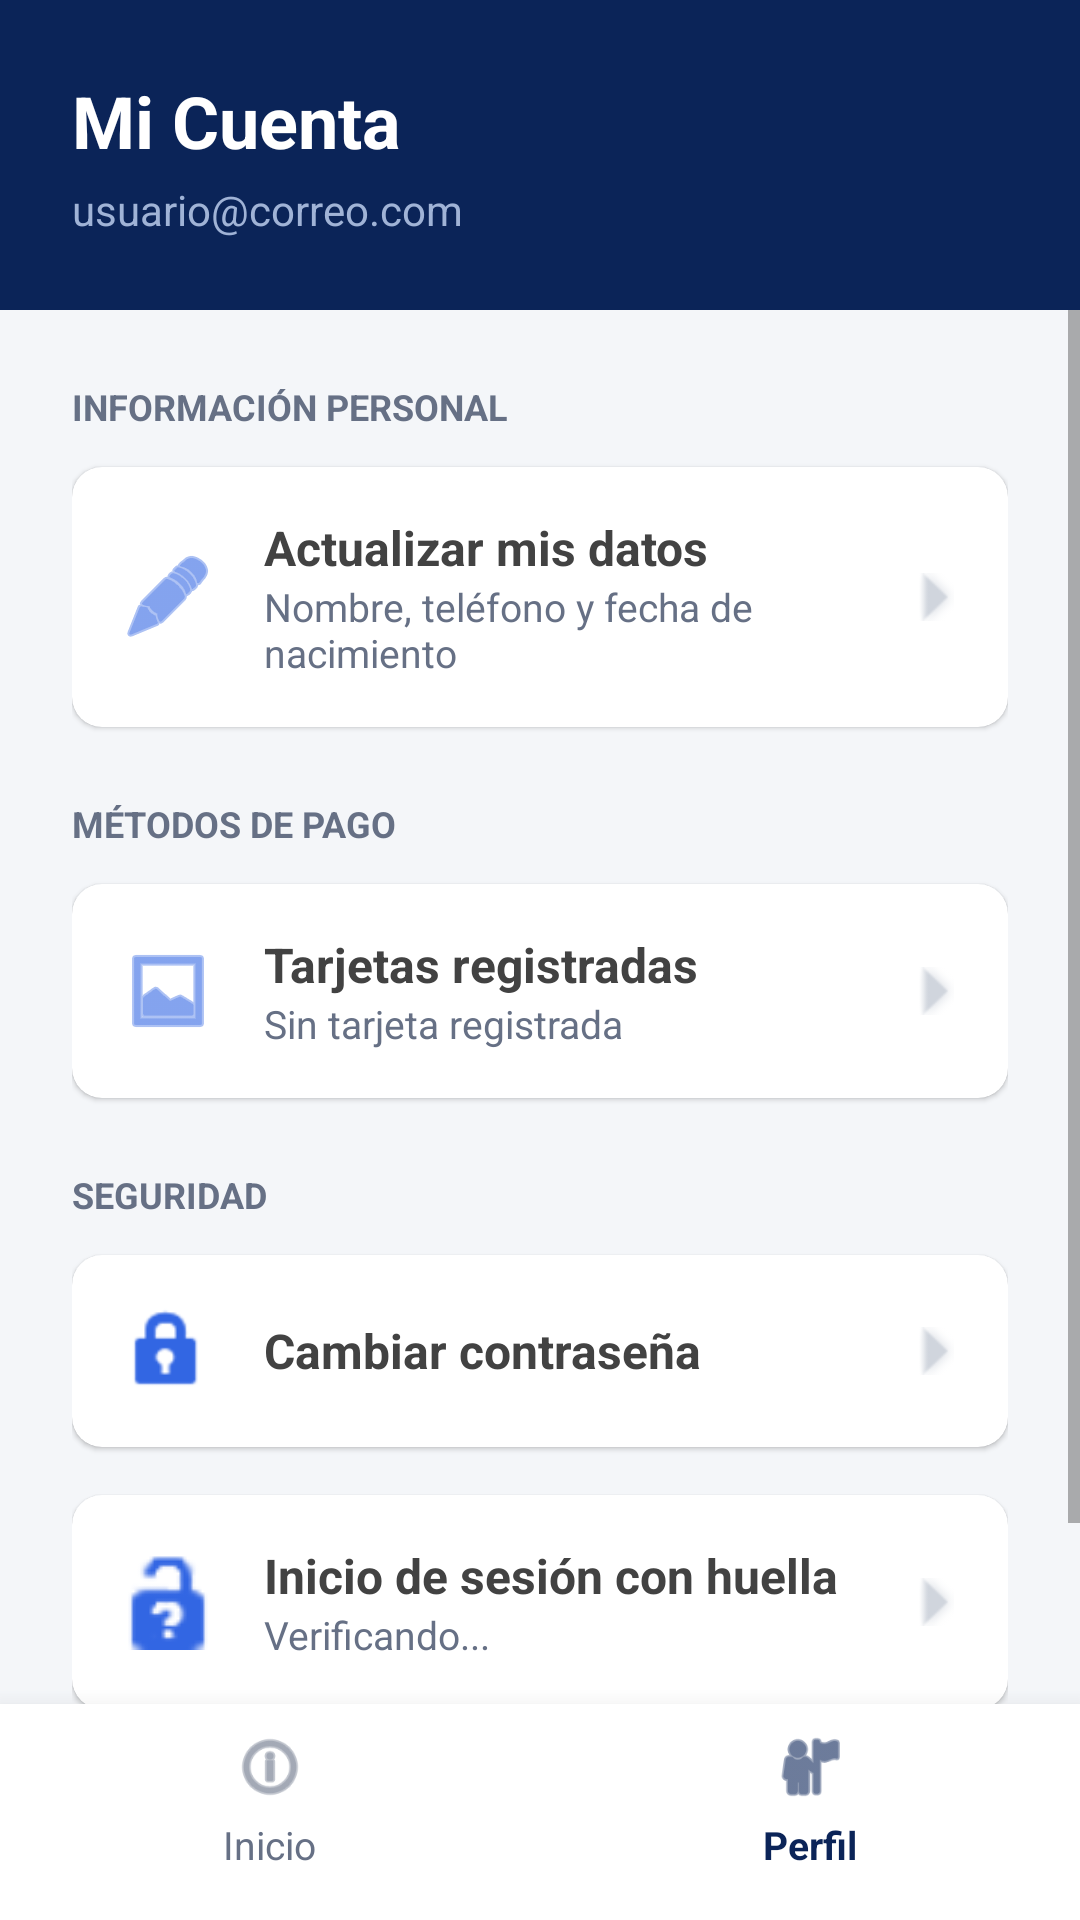

Locate icon controls on the screen. Image size 1080 x 1920, boxes as bbox(x1, y1, x2, y2).
edit: bbox(127, 556, 208, 637)
gallery: bbox(132, 955, 204, 1027)
info details: bbox(242, 1739, 298, 1795)
lock idle: bbox(134, 1311, 197, 1385)
myplaces: bbox(781, 1738, 840, 1796)
partial secure: bbox(131, 1556, 205, 1650)
